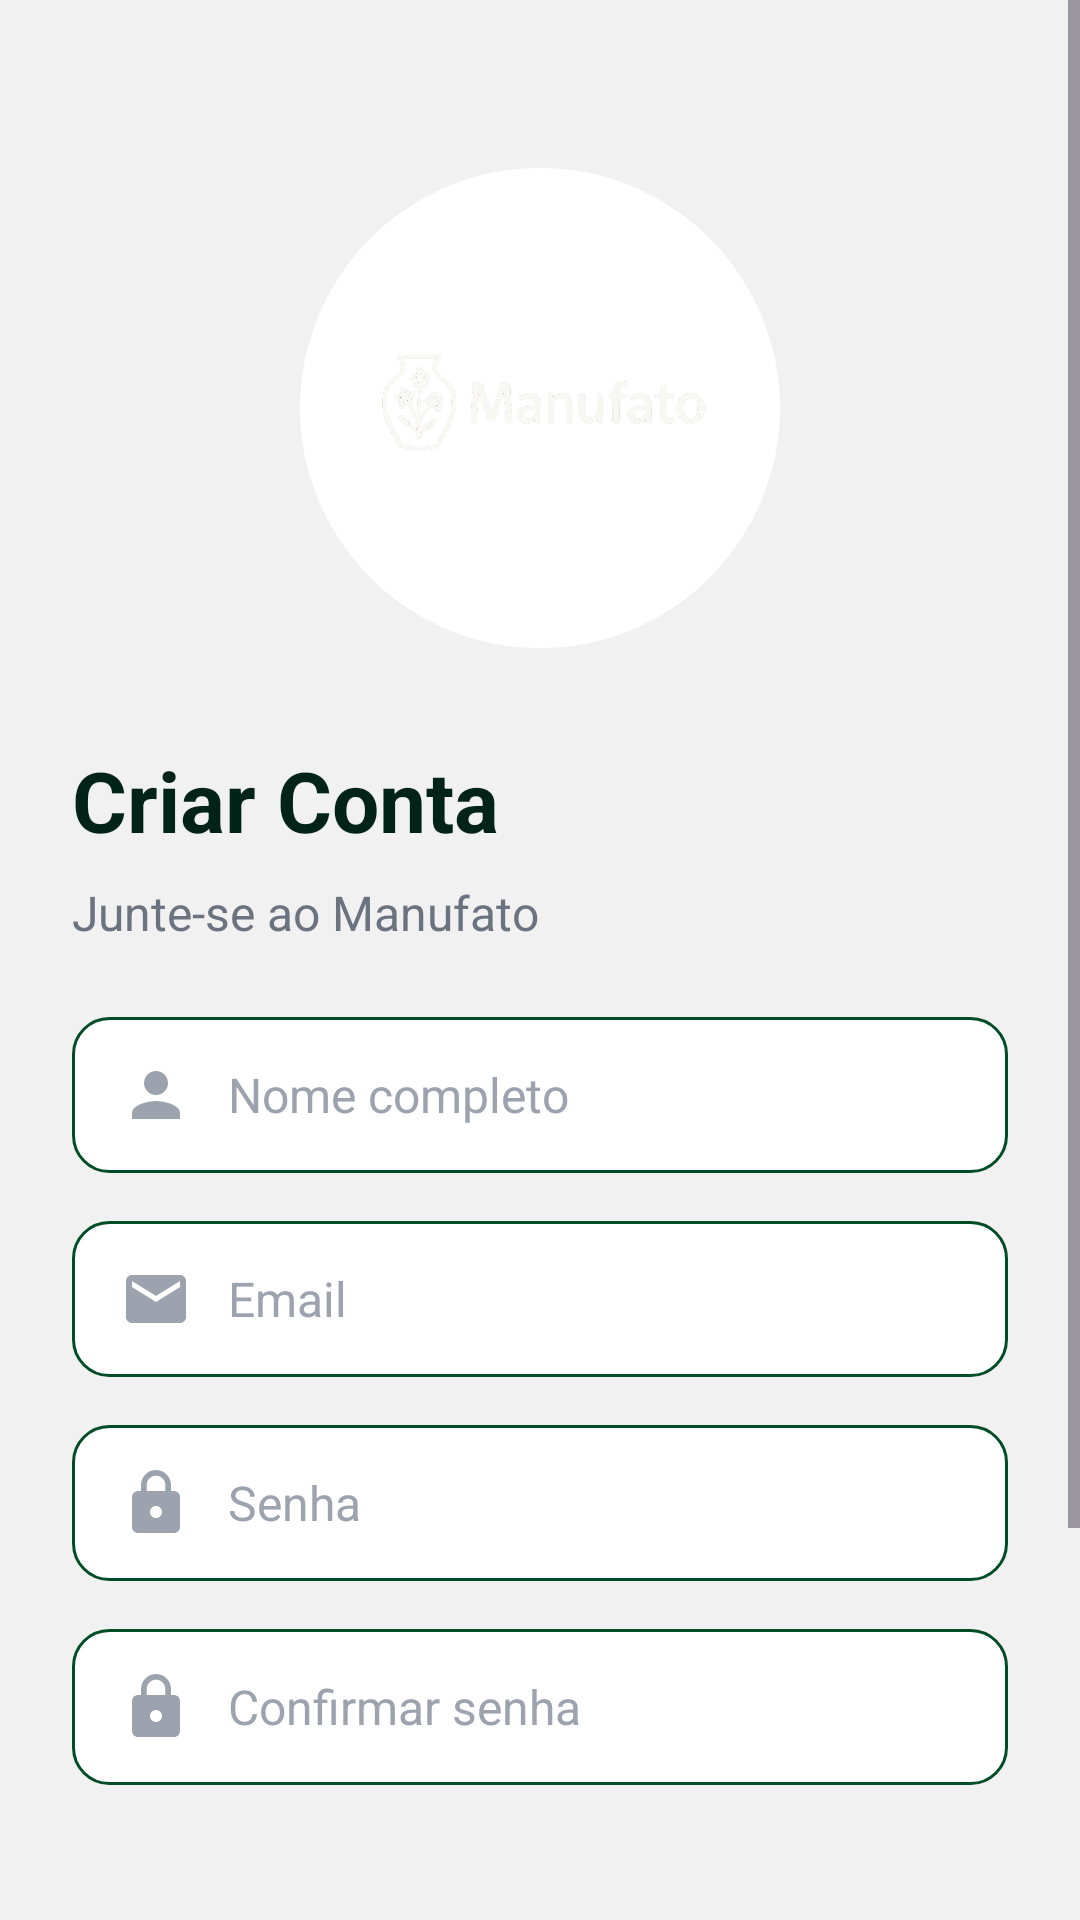

Named icons in this screenshot (1080*1920) and their centers, [x,y]:
Confirm password icon: [156,1705]
Name icon: [156,1095]
Password icon: [156,1501]
